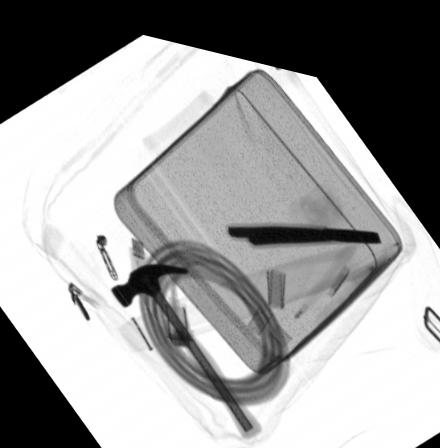Hammer: (110, 256, 260, 428)
Pliers: (226, 210, 378, 237)
